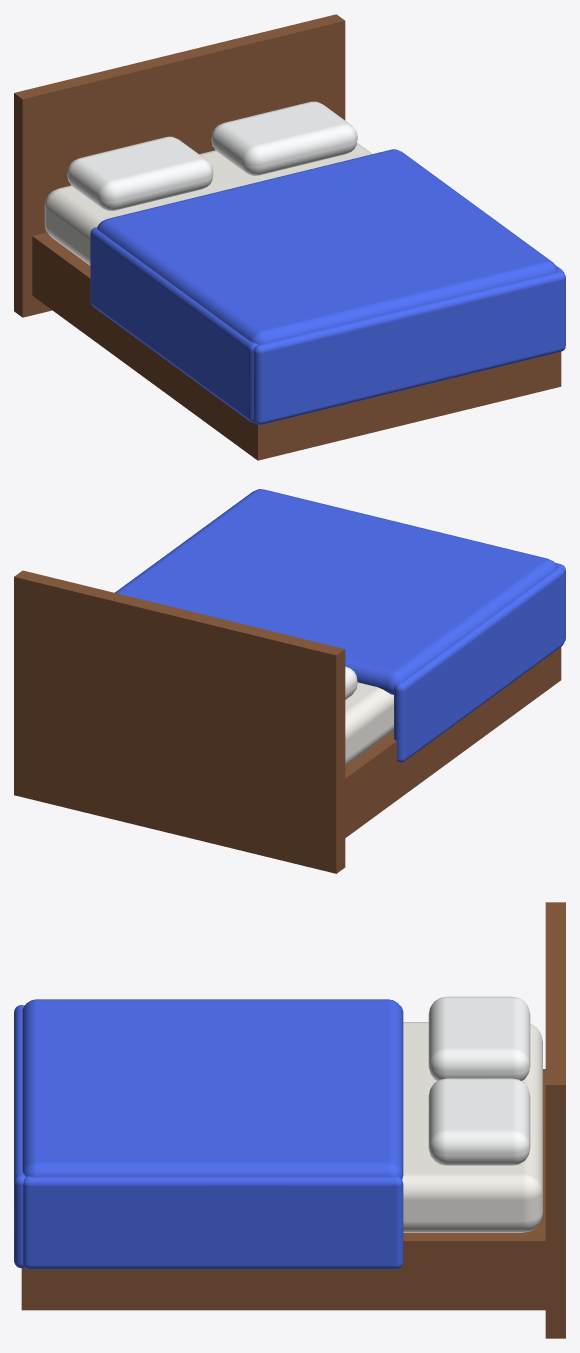
The model's file is bed.glb.
3 renders of one model, top to bottom at view 1: azimuth 30°, elevation 25°; view 2: azimuth 150°, elevation 25°; view 3: azimuth 270°, elevation 25°, orthographic. The views are drawn at different scales.
Visible parts, largest first — view 1: main; view 2: main; view 3: main.
Boxes of the visible parts, <box> form: main: <box>14,14,565,460</box>; main: <box>14,489,565,873</box>; main: <box>14,902,565,1338</box>.
Bounding box in the file's own units: 1.7 × 1.1 × 2.17.
